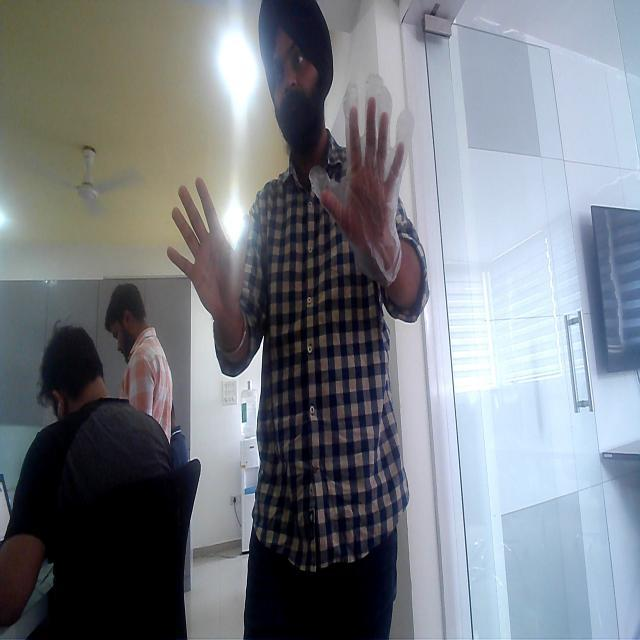with_gloves: (311, 171, 414, 197)
without_gloves: (162, 152, 256, 348)
